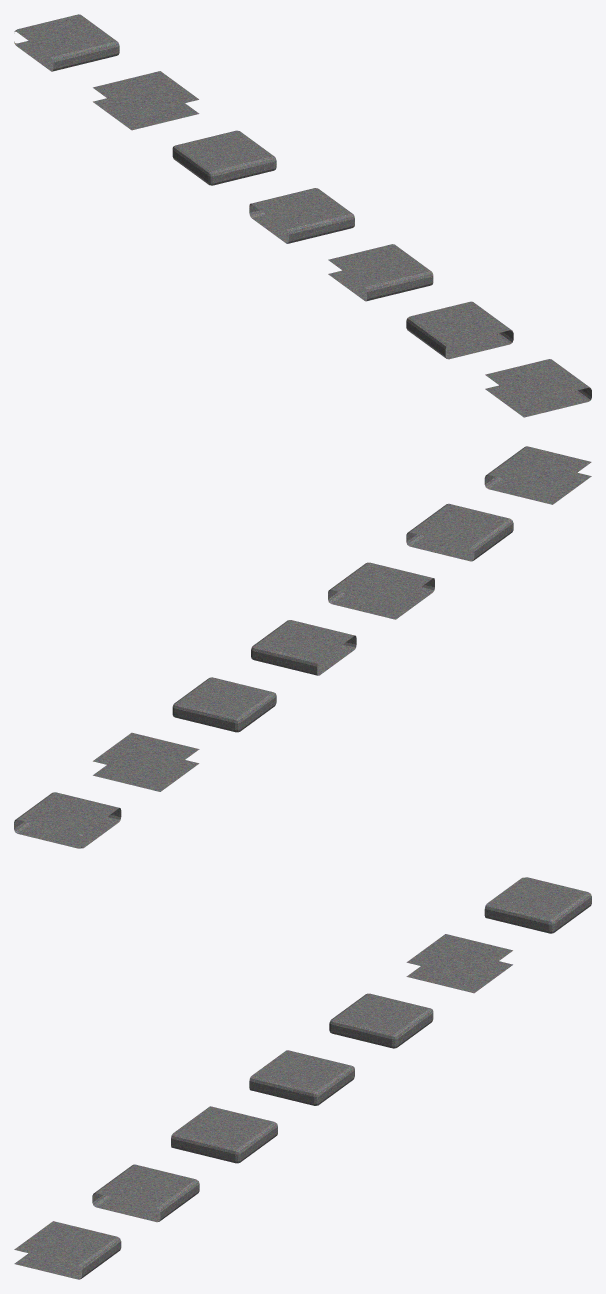
The model's file is tiledgraniteslabs.glb.
3 renders of one model, top to bottom at view 1: azimuth 30°, elevation 25°; view 2: azimuth 150°, elevation 25°; view 3: azimuth 330°, elevation 25°, orthographic.
Parts seen in each view (by area): view 1: 1010-col, 1000-col, 0000-col, 1100special-col, 1100-col, 1110-col, 1111-col; view 2: 1010-col, 1000-col, 0000-col, 1100special-col, 1100-col, 1110-col, 1111-col; view 3: 1010-col, 1000-col, 0000-col, 1100special-col, 1100-col, 1110-col, 1111-col.
Boxes of the visible parts, left/top/right/bottom form: 1010-col: left=406, top=301, right=513, bottom=359; 1000-col: left=485, top=359, right=591, bottom=417; 0000-col: left=93, top=71, right=199, bottom=130; 1100special-col: left=14, top=14, right=119, bottom=71; 1100-col: left=328, top=244, right=433, bottom=301; 1110-col: left=249, top=188, right=354, bottom=243; 1111-col: left=172, top=130, right=276, bottom=185; 1010-col: left=406, top=503, right=513, bottom=561; 1000-col: left=484, top=446, right=591, bottom=504; 0000-col: left=93, top=732, right=199, bottom=791; 1100special-col: left=14, top=792, right=121, bottom=848; 1100-col: left=328, top=562, right=434, bottom=619; 1110-col: left=251, top=620, right=356, bottom=675; 1111-col: left=172, top=677, right=276, bottom=732; 1010-col: left=92, top=1164, right=199, bottom=1222; 1000-col: left=14, top=1221, right=121, bottom=1279; 0000-col: left=406, top=934, right=512, bottom=993; 1100special-col: left=484, top=877, right=591, bottom=933; 1100-col: left=171, top=1106, right=277, bottom=1163; 1110-col: left=249, top=1050, right=354, bottom=1105; 1111-col: left=329, top=993, right=433, bottom=1048.
Bounding box in the file's own units: 1 × 0.2 × 13.
Materials: 1 (1 with a texture image).
